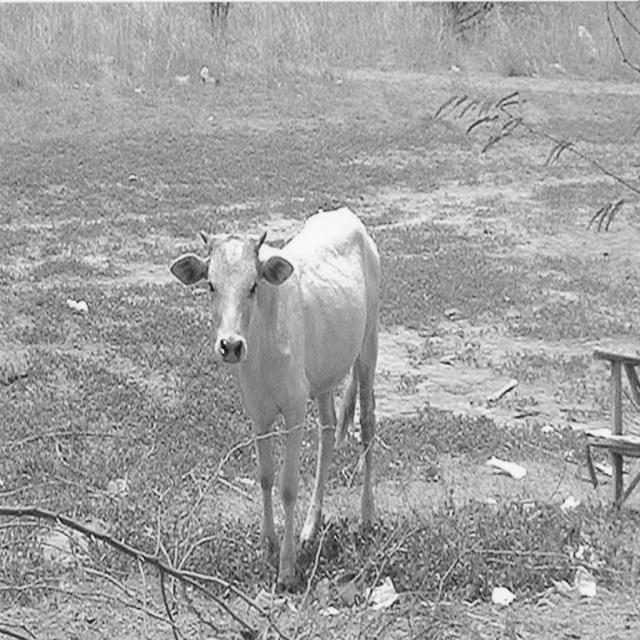cow: (170, 208, 380, 588)
